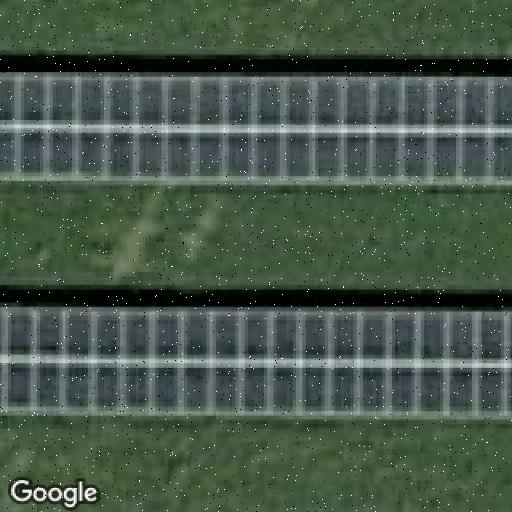solar-panel: (0, 75, 512, 187), (0, 310, 512, 420)
